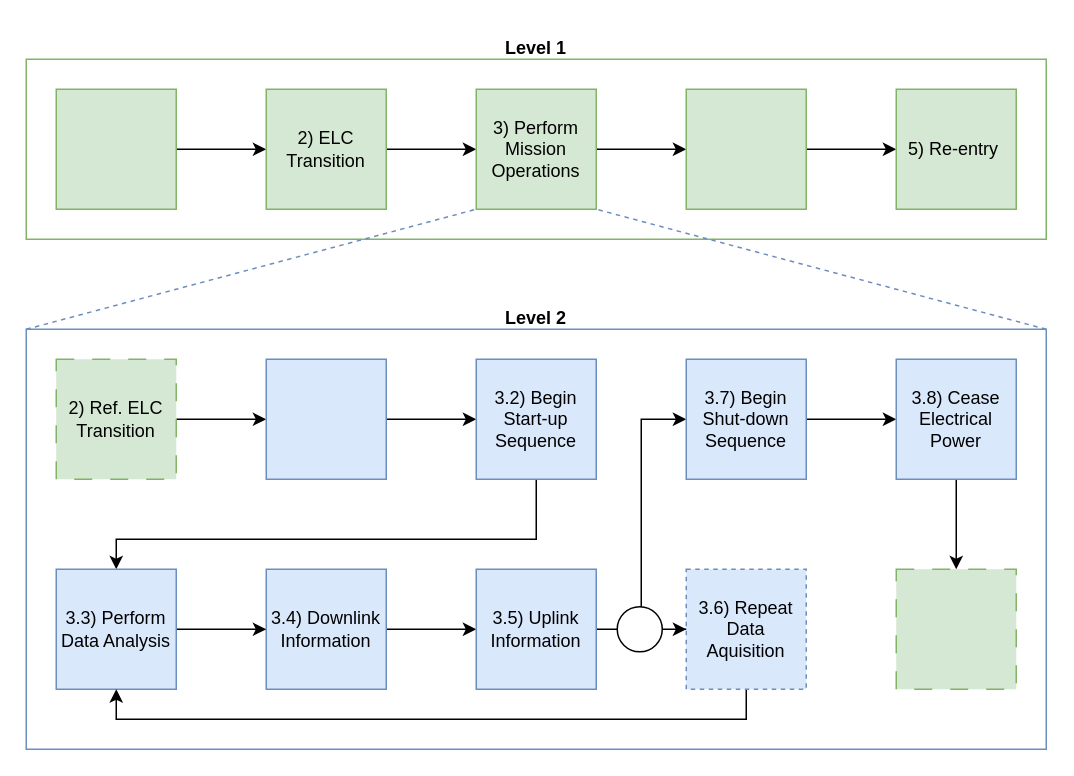
The diagram is 1074 pixels wide and 776 high, and some of its shapes have lost their labels. Here are the shapes that lost their labels. From the top down, the centre of each, then its label:
At (115,148): "1) Launch Payload".
At (745,148): "4) Retrieve Flight Experiments".
At (325,418): "3.1) Initiate Electrical Power".
At (639,628): "OR".
At (955,628): "4) Ref. Retrieve Flight Experiments".
